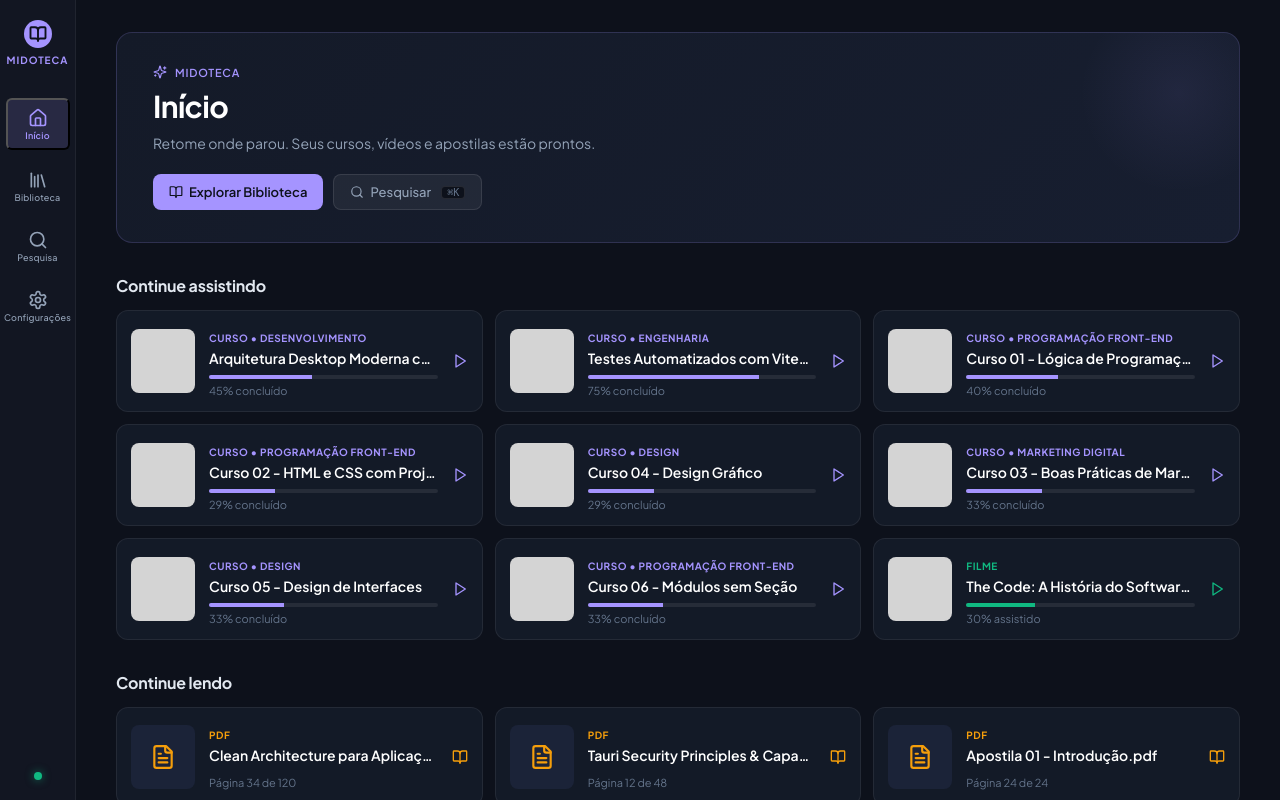
MIDOTECA - Fundação Visual e Navegação › deve abrir a Pesquisa ao clicar no botão de atalho no Início
Clica no botão "Pesquisar" no banner do Início
Click the button with test id "home-search-shortcut" at coordinates (408, 192), box left=333, top=174, right=482, bottom=210
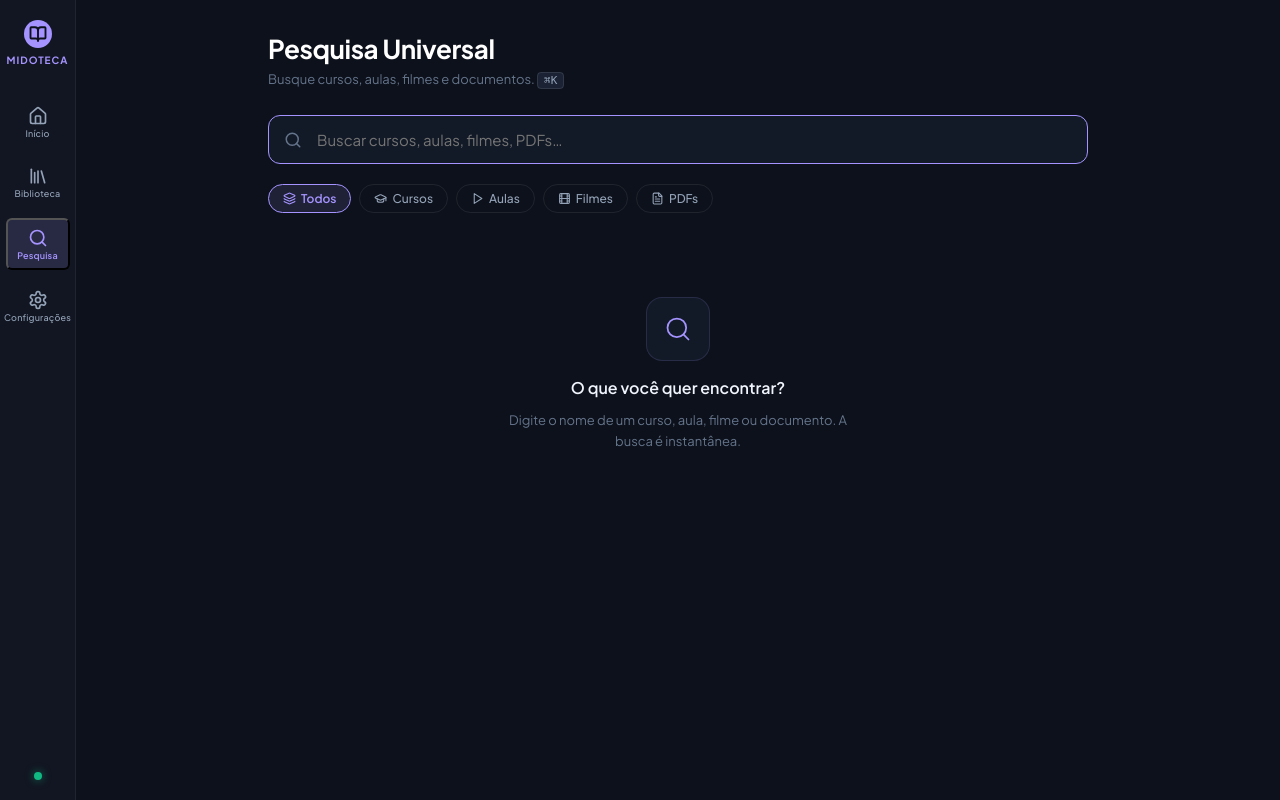
Result: the heading "Pesquisa Universal" is shown at left=268, top=32, right=495, bottom=65
Result: the search field is shown at left=268, top=115, right=1088, bottom=164
